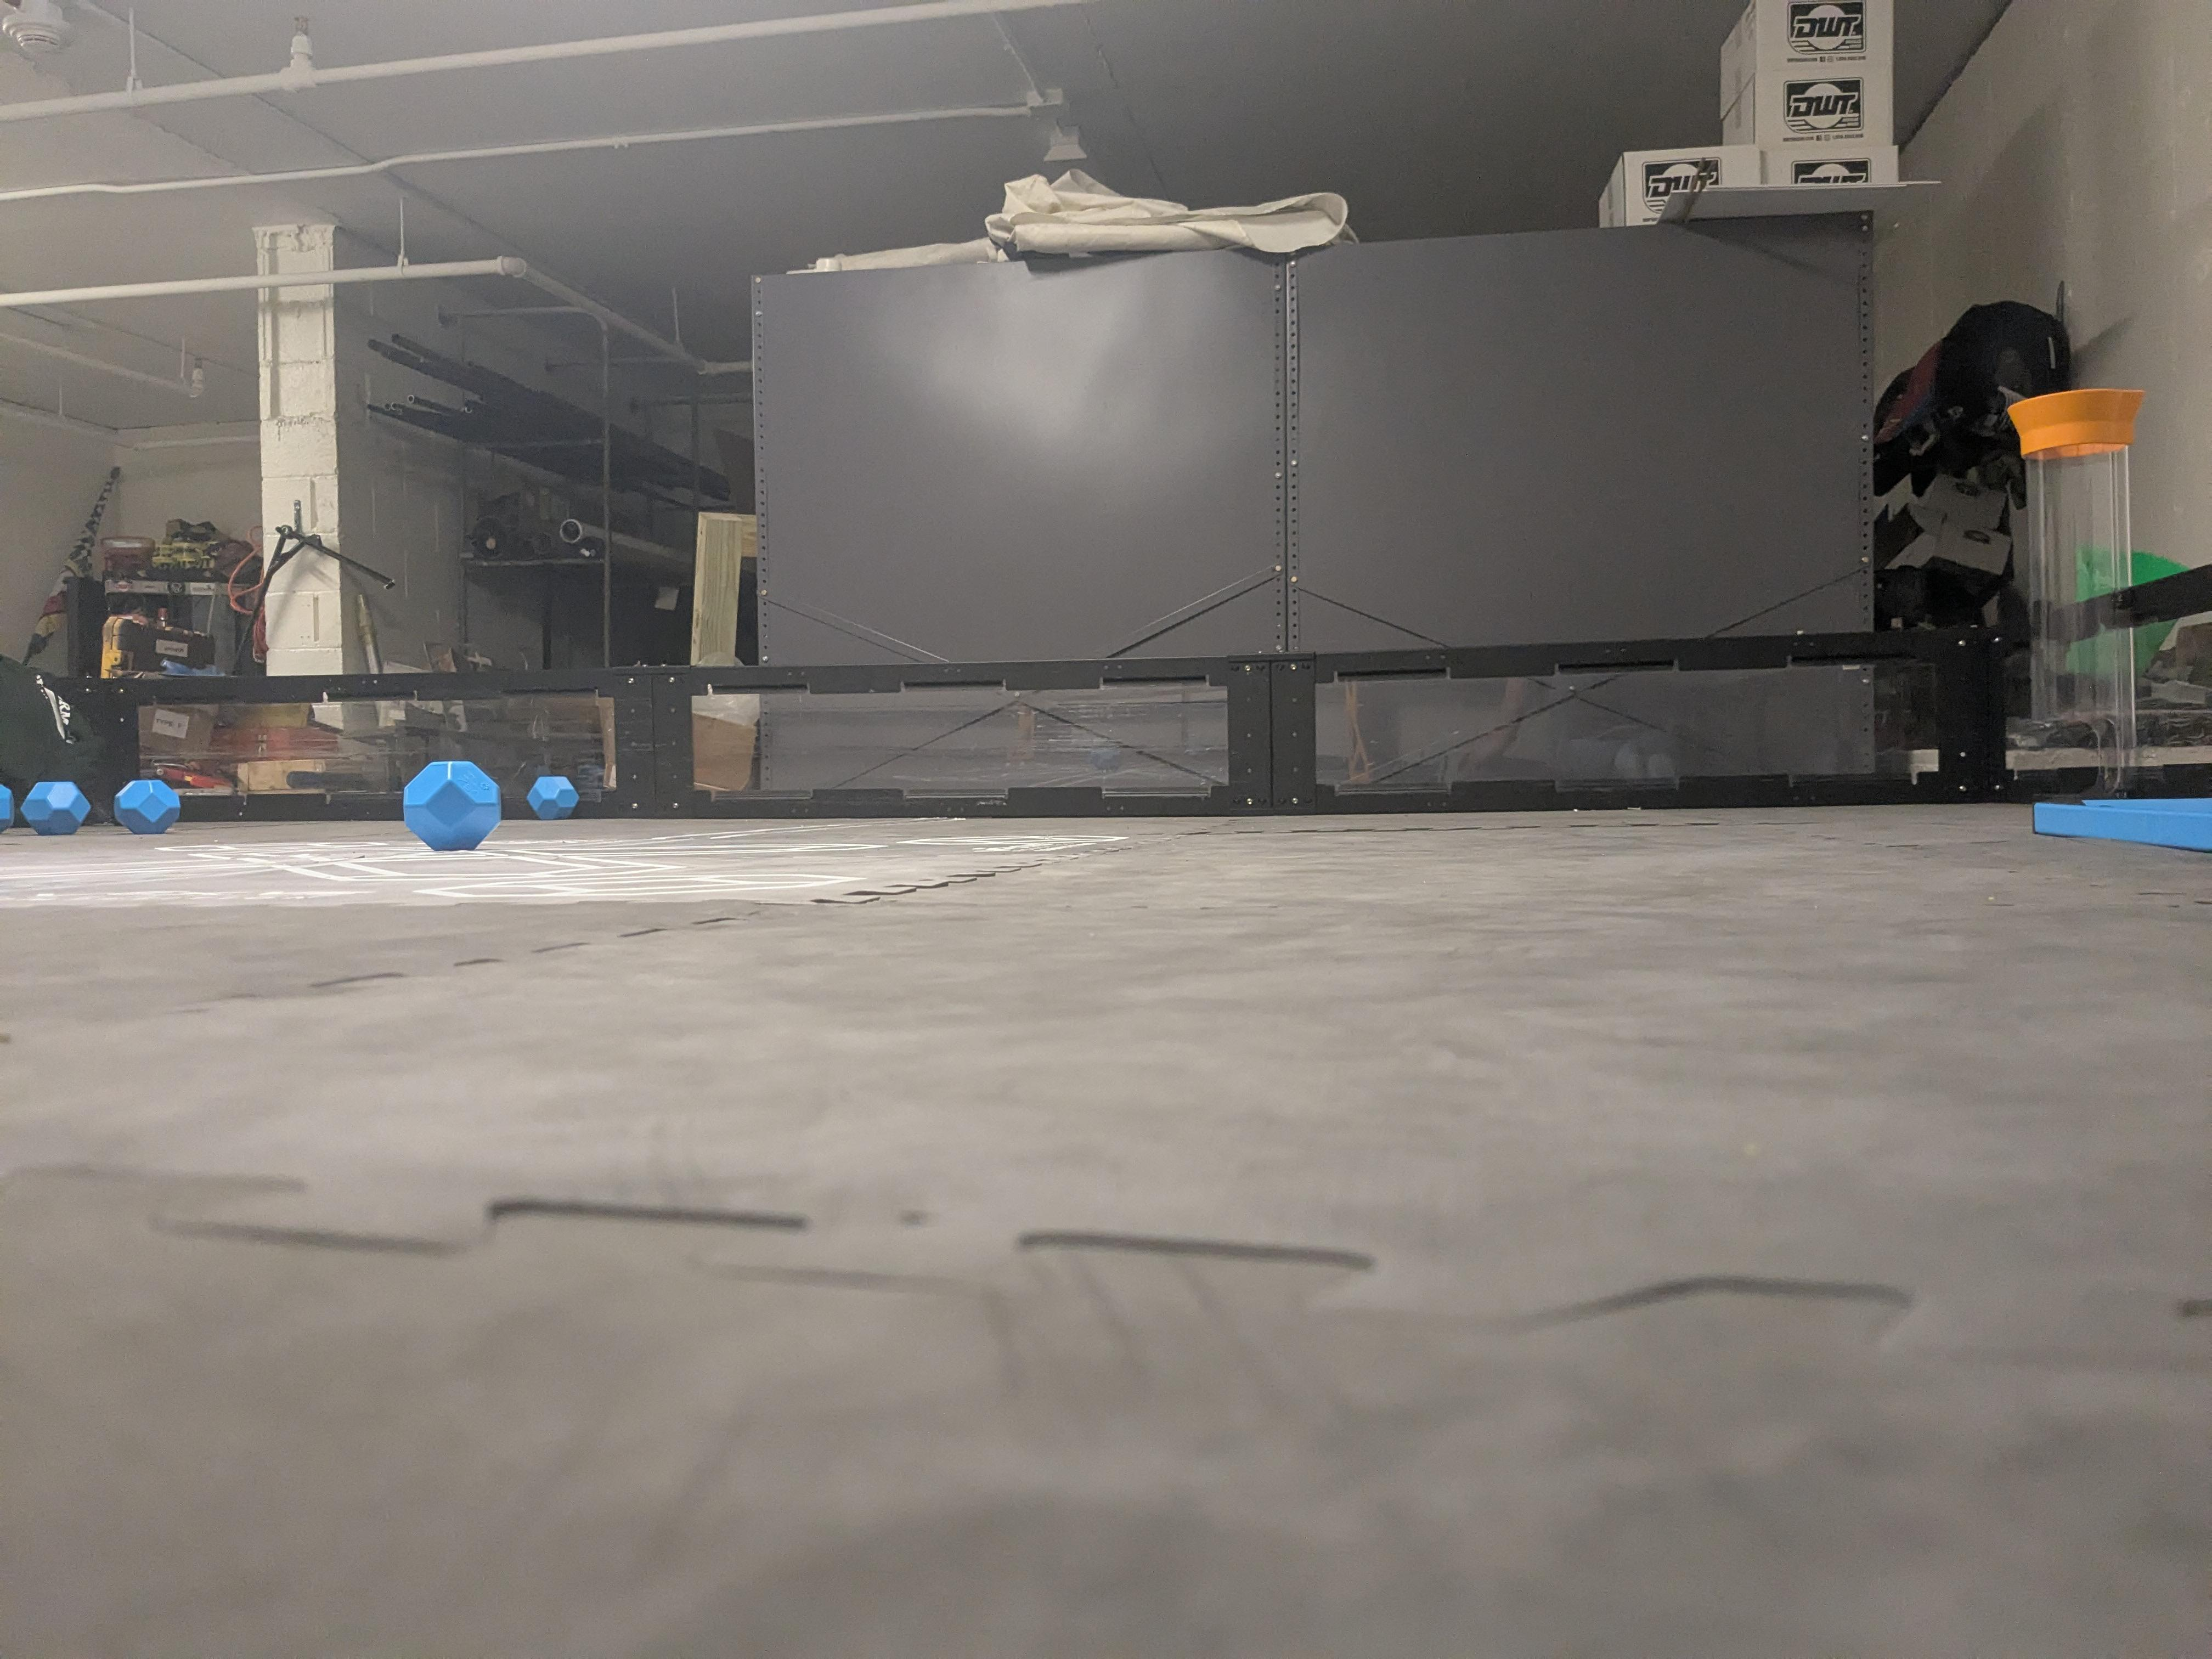Vex-Pieces-BLUE: (401, 765, 496, 847), (0, 782, 120, 835), (115, 779, 179, 833), (526, 775, 578, 819)
